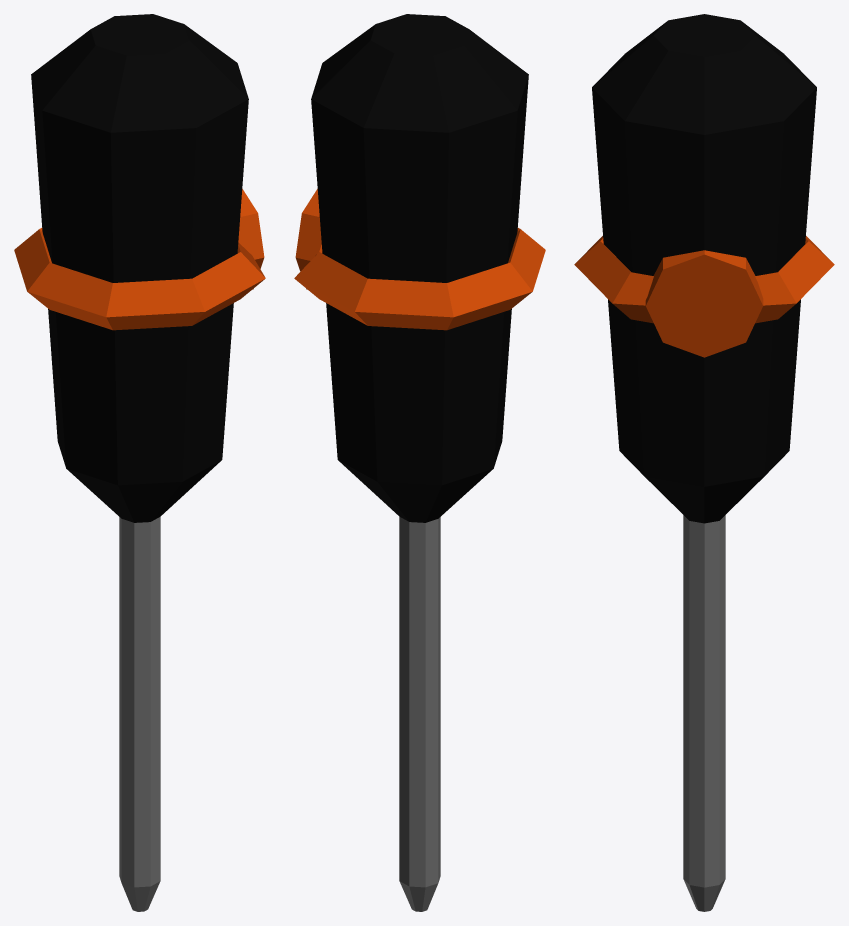
The model's file is screw_driver.obj.
3 renders of one model, left to right at view 1: azimuth 30°, elevation 25°; view 2: azimuth 150°, elevation 25°; view 3: azimuth 270°, elevation 25°, orthographic.
Parts seen in each view (by area): view 1: Cylinder, Circle; view 2: Cylinder, Circle; view 3: Cylinder, Circle.
Part boxes in pixels (x1,y1,x2,y2): Cylinder: (31, 14, 248, 911); Circle: (14, 189, 265, 330); Cylinder: (311, 14, 528, 911); Circle: (294, 189, 545, 330); Cylinder: (592, 14, 816, 911); Circle: (574, 236, 834, 357).
Size of the model in its own units: 1.94 by 7.66 by 2.07.
